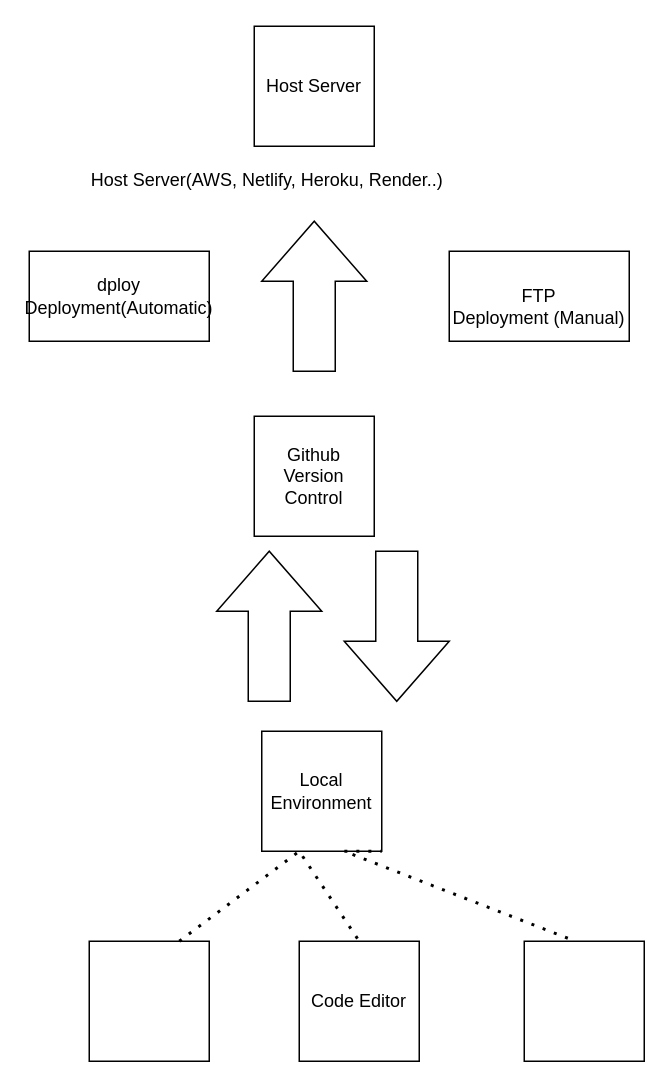
This 671x1088 diagram has some shape labels left out. The centre of each missing label's shape, as x and y in pixels:
"Server" belongs at (148,1000).
"Terminal" belongs at (583,1000).
